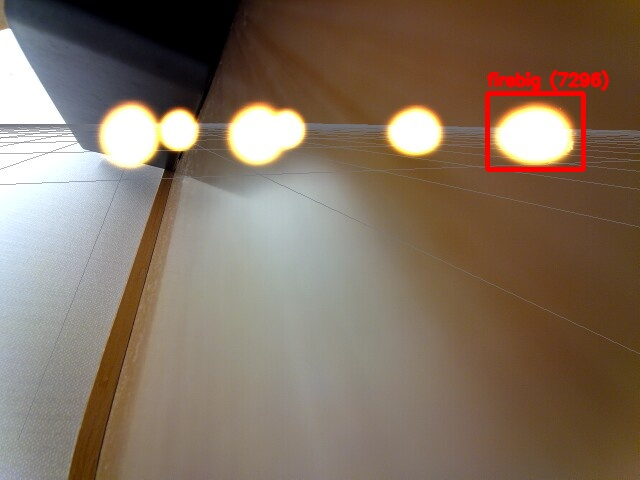firebig: (487, 93, 583, 169)
